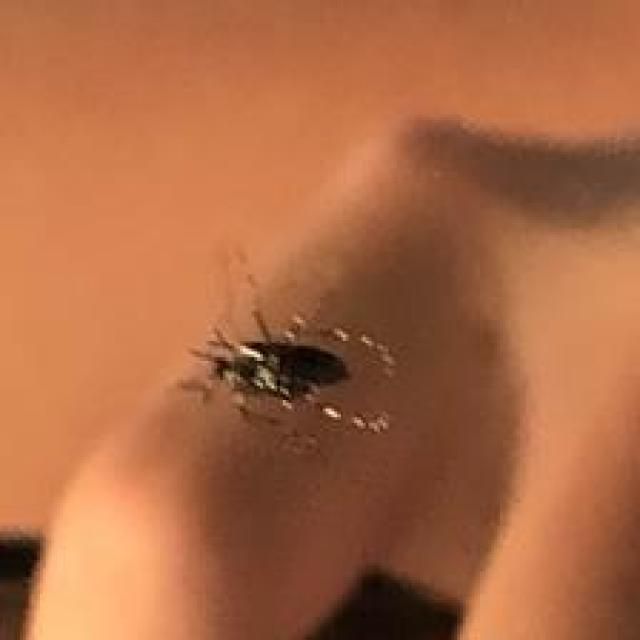Aedes albopictus: (175, 300, 398, 460)
